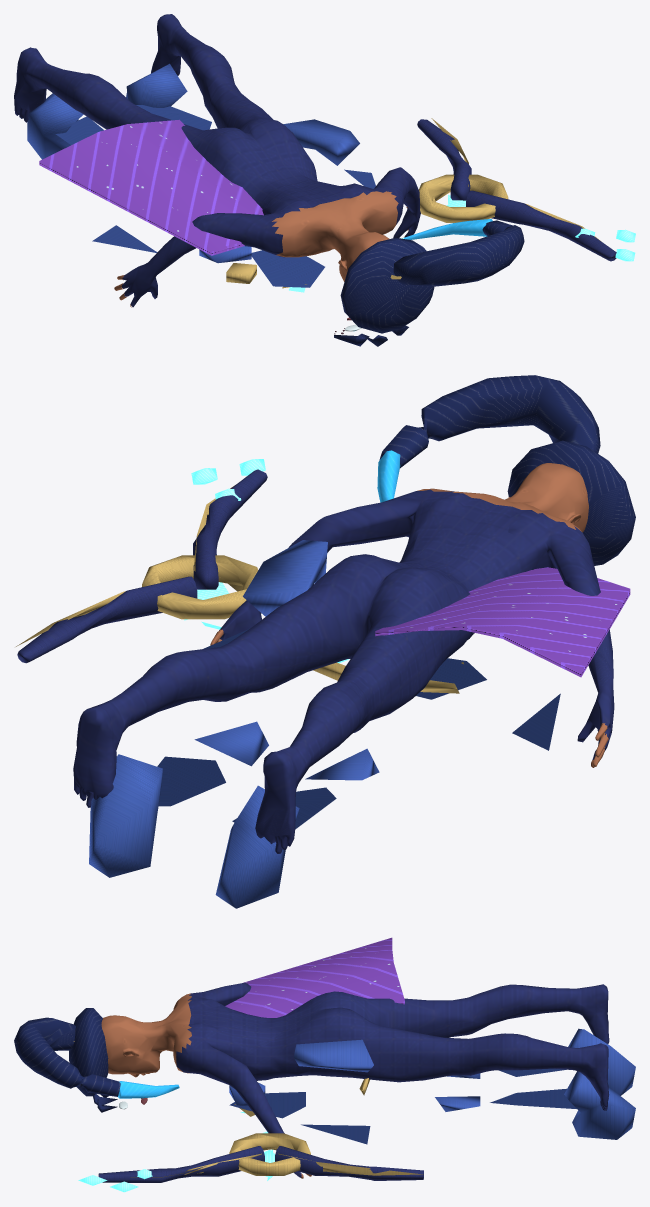
The model's file is lyra_vesper_lod1.glb.
3 renders of one model, top to bottom at view 1: azimuth 30°, elevation 25°; view 2: azimuth 150°, elevation 25°; view 3: azimuth 270°, elevation 25°, orthographic. The views are drawn at different scales.
Visible parts, largest first — view 1: MESH_ArmorBoot_L, MESH_AuroraMantle_Left, MESH_ShinLumen_L; view 2: MESH_ArmorBoot_L, MESH_AuroraMantle_Left, MESH_ShinLumen_L; view 3: MESH_ArmorBoot_L, MESH_AuroraMantle_Left, MESH_ShinLumen_L.
Part boxes in pixels (<box>): MESH_ArmorBoot_L: <box>14,14,616,346</box>; MESH_AuroraMantle_Left: <box>39,119,263,255</box>; MESH_ShinLumen_L: <box>289,195,635,292</box>; MESH_ArmorBoot_L: <box>16,375,635,908</box>; MESH_AuroraMantle_Left: <box>375,567,630,677</box>; MESH_ShinLumen_L: <box>184,459,349,663</box>; MESH_ArmorBoot_L: <box>14,982,635,1182</box>; MESH_AuroraMantle_Left: <box>225,937,404,1017</box>; MESH_ShinLumen_L: <box>78,1111,275,1192</box>.
Bounding box in the file's own units: 2.89 × 0.8335 × 3.97.
Materials: 3 (3 with a texture image).
